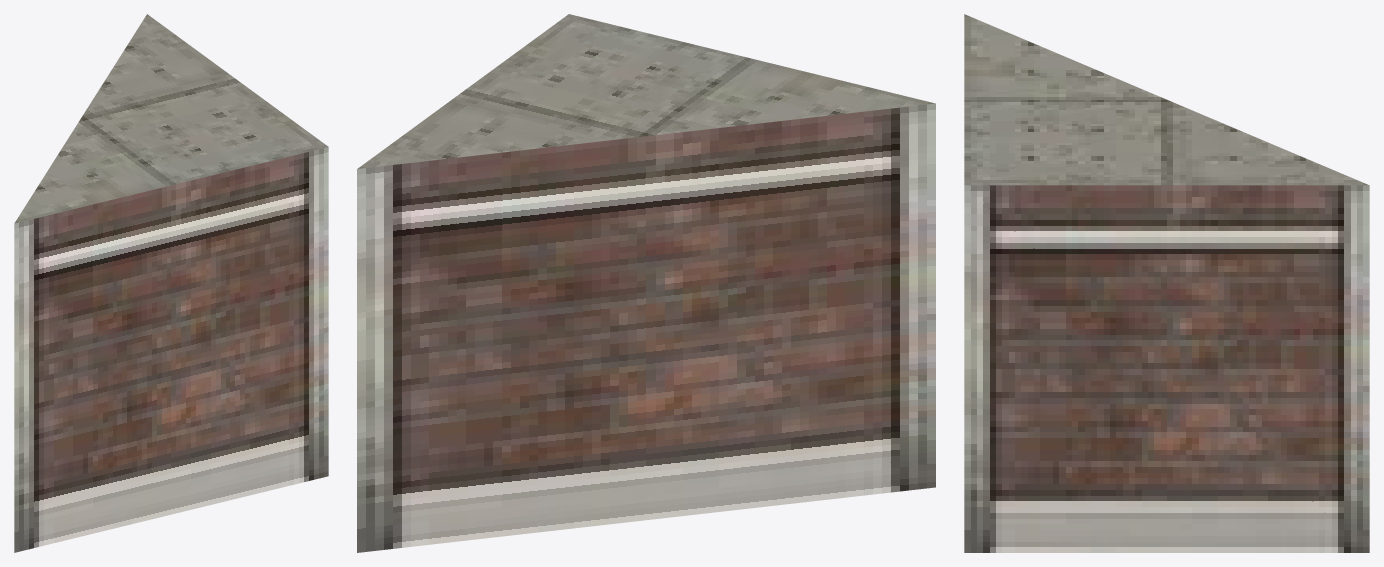
Rendered from kenney-retro-urban-wall-a-diagonal.glb.
The picture shows the model from 3 angles, left to right: view 1: azimuth 30°, elevation 25°; view 2: azimuth 150°, elevation 25°; view 3: azimuth 270°, elevation 25°; orthographic projection. The views are drawn at different scales.
Visible parts, largest first — view 1: wall-a-diagonal; view 2: wall-a-diagonal; view 3: wall-a-diagonal.
Part boxes in pixels (x1=…): wall-a-diagonal: x1=14, y1=14, x2=328, y2=552; wall-a-diagonal: x1=357, y1=14, x2=935, y2=552; wall-a-diagonal: x1=964, y1=14, x2=1369, y2=552.
Size of the model in its own units: 1 by 1 by 1.
2 materials, 2 textured.
